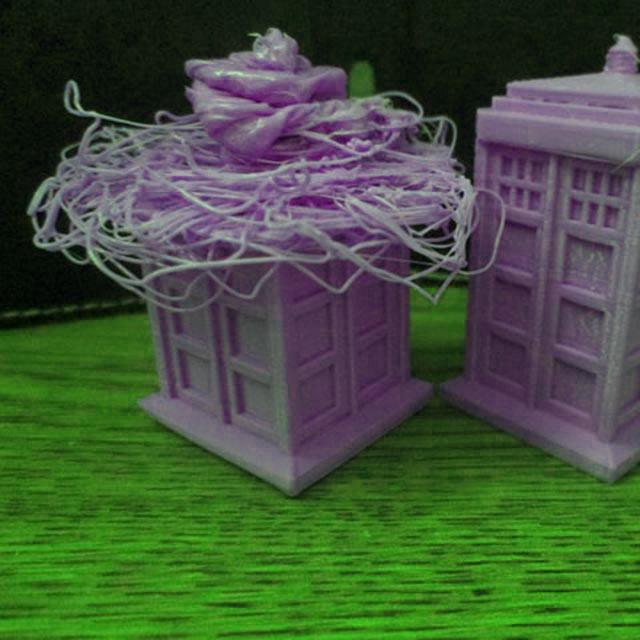spaghetti: (23, 21, 514, 322)
